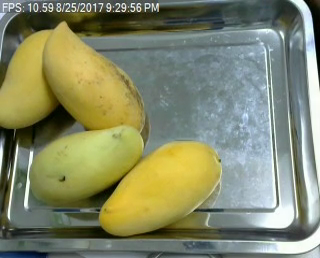Mango: (42, 20, 145, 141), (100, 140, 220, 235), (28, 125, 143, 205), (0, 29, 71, 128)
